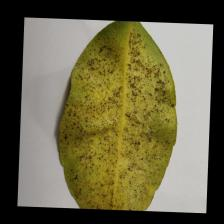canker: (94, 63, 165, 186)
